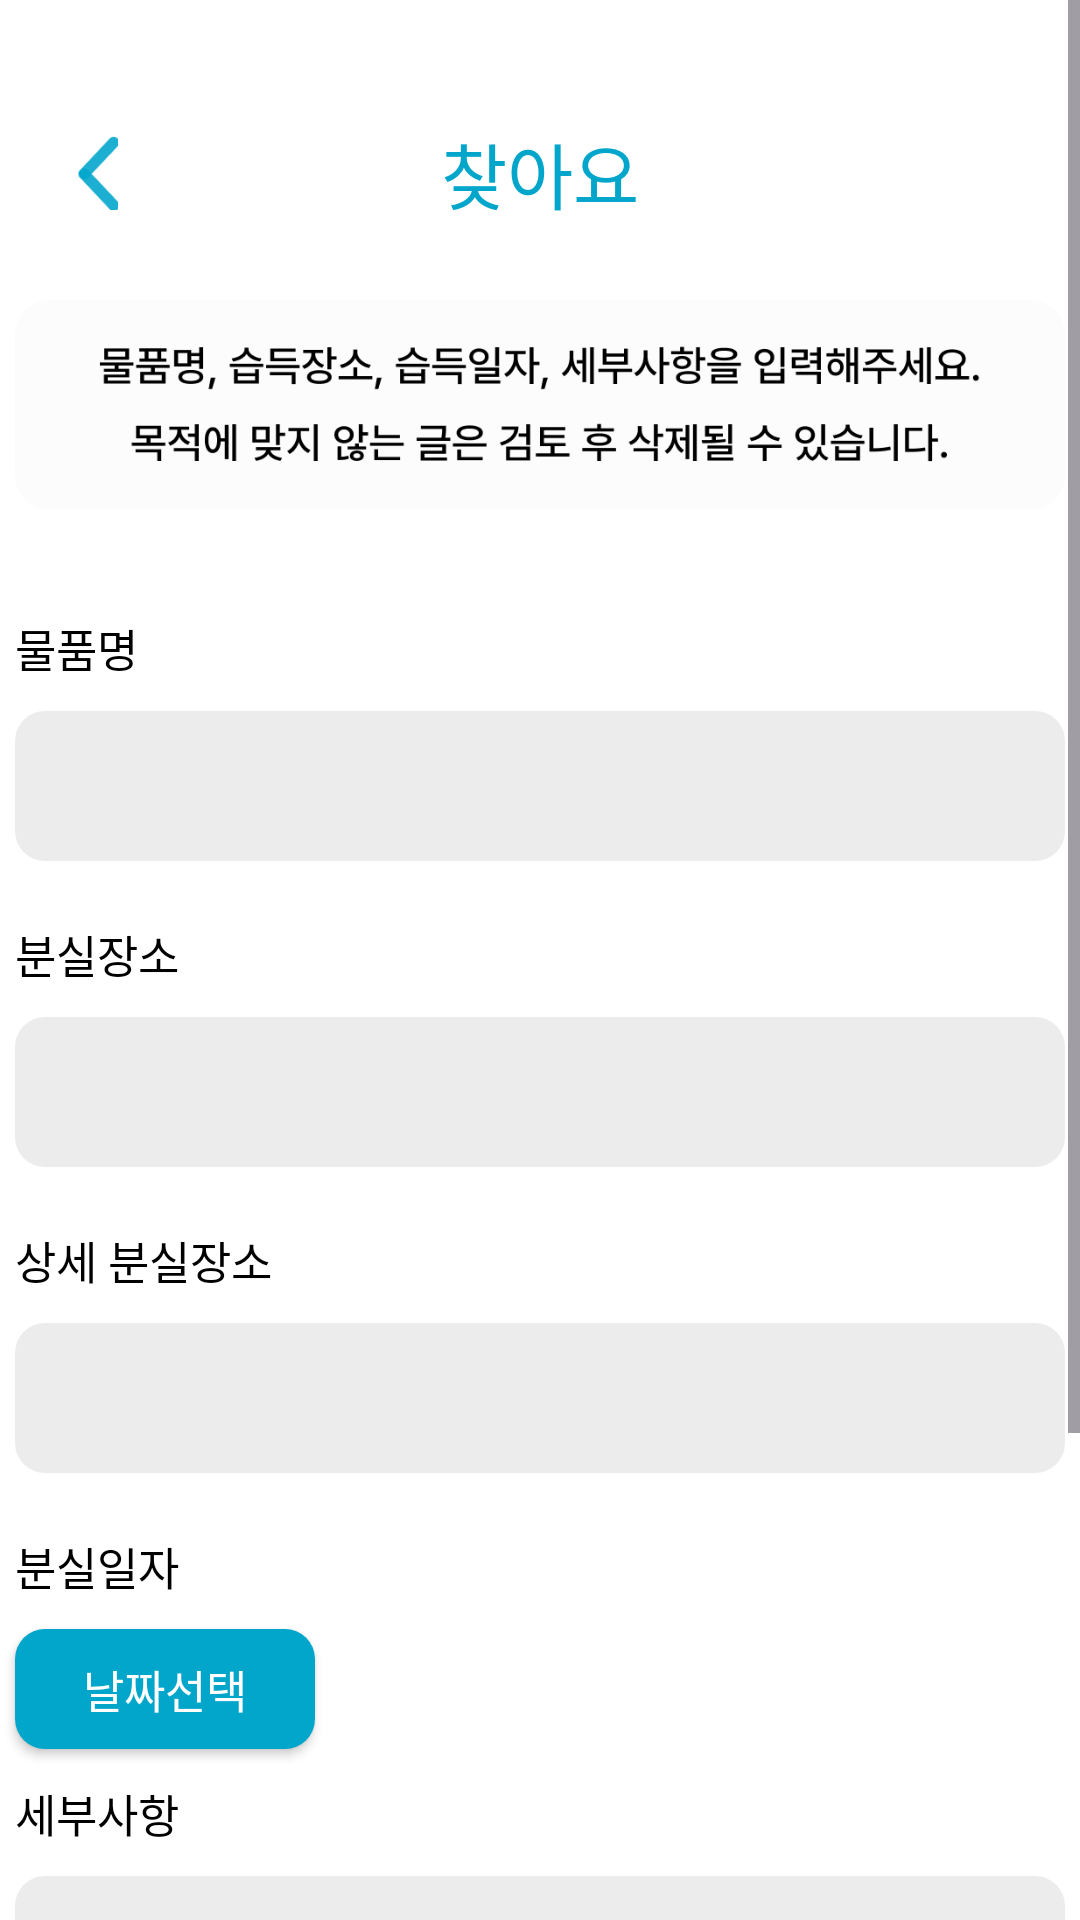

Icons on this 1080px×1920px Android screen, each with the point to tap as (x=x, y=y):
back: (x=98, y=173)
